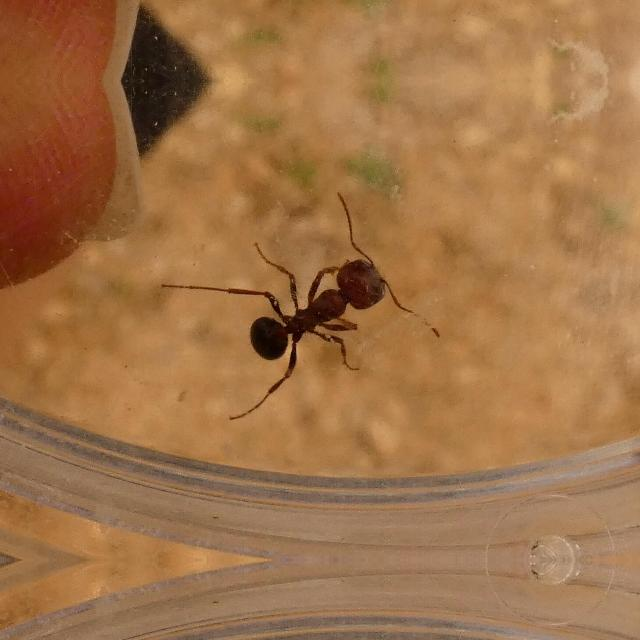Messor: (203, 230, 413, 384)
